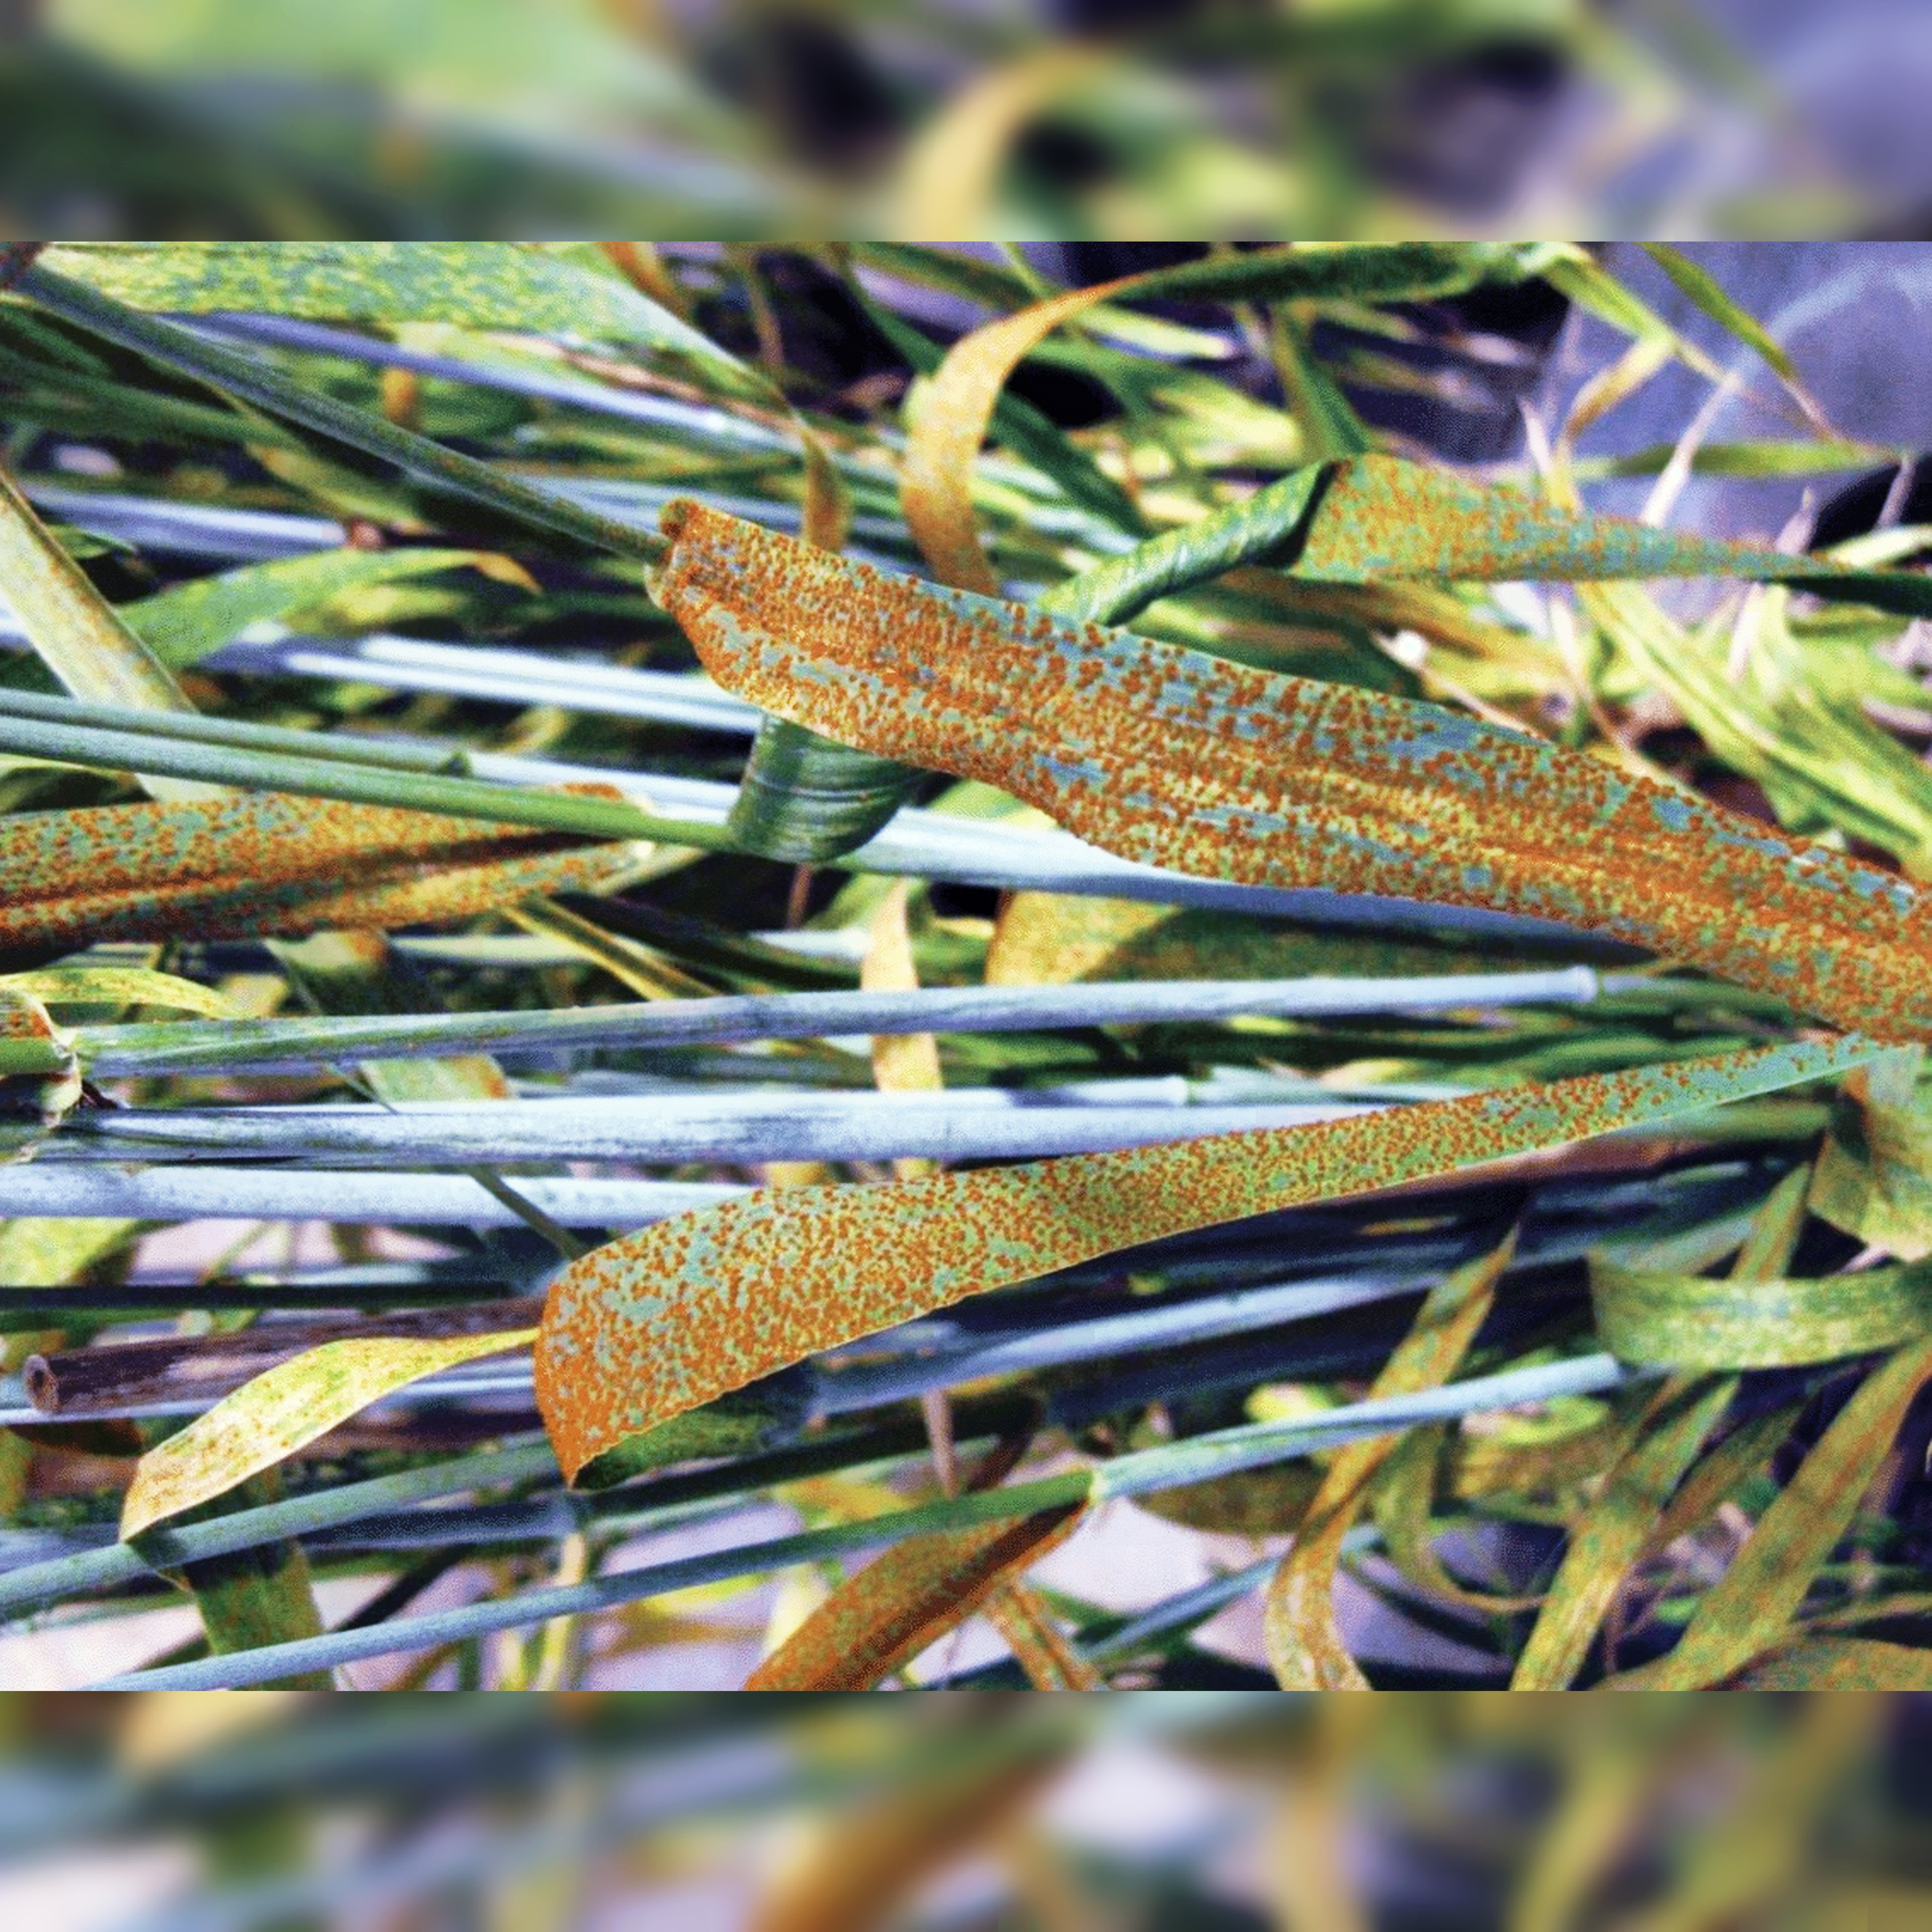Leaf Rust: (688, 536, 1851, 1005), (529, 1053, 1598, 1454)
